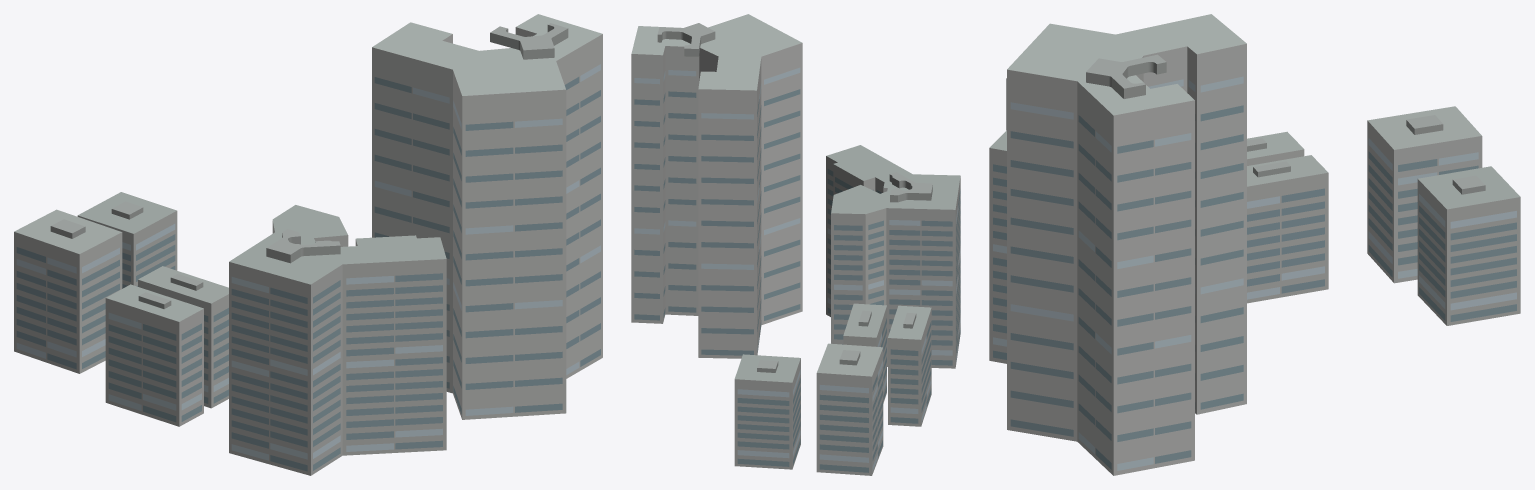
File: apt-a13792306.glb
3 views of the same model, side by side, from view 1: azimuth 30°, elevation 25°; view 2: azimuth 150°, elevation 25°; view 3: azimuth 270°, elevation 25° (orthographic). The views are drawn at different scales.
Parts seen in each view (by area): view 1: apt-a13792306; view 2: apt-a13792306; view 3: apt-a13792306.
Boxes of the visible parts, x1,y1,x2,y2 form: apt-a13792306: (14, 14, 602, 475); apt-a13792306: (631, 14, 960, 475); apt-a13792306: (989, 14, 1520, 475).
Size of the model in its own units: 116 by 85 by 110.
